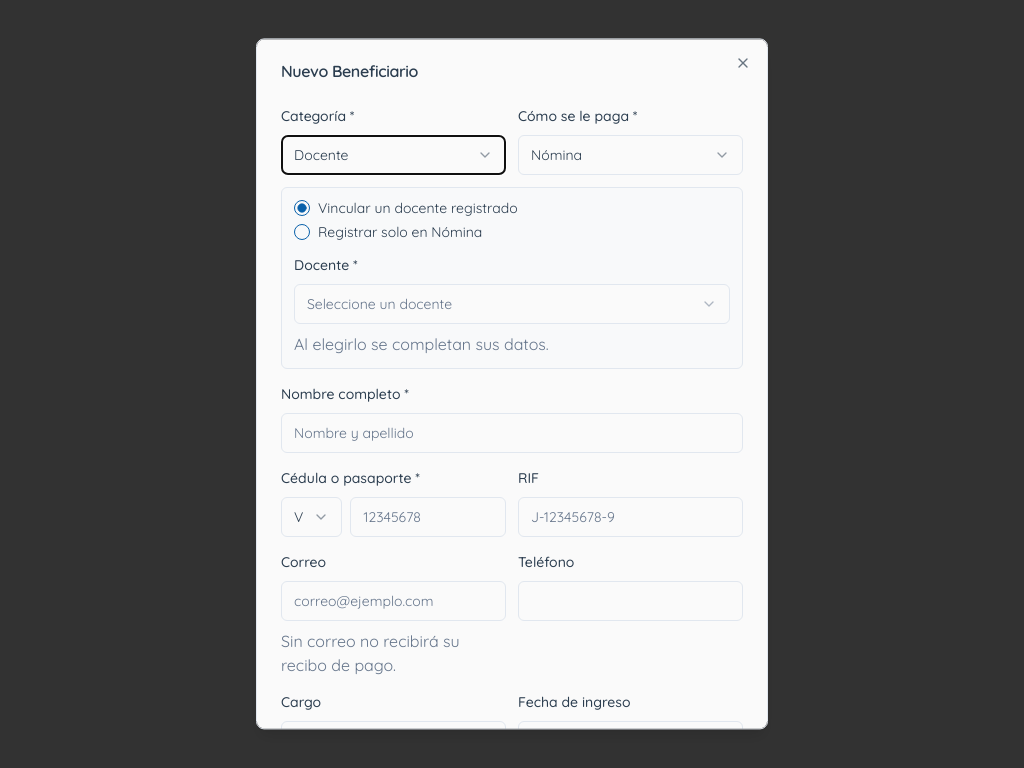
Test: BeneficiaryFormModal › offers both paths when there are active teachers
Expected: the radio button named "Vincular un docente registrado" next to "Vincular un docente registrado" is checked, [294,200,310,216]
Click the radio button named "Registrar solo en Nómina" next to "Registrar solo en Nómina". click: click(302, 232)
box: [294,224,310,240]
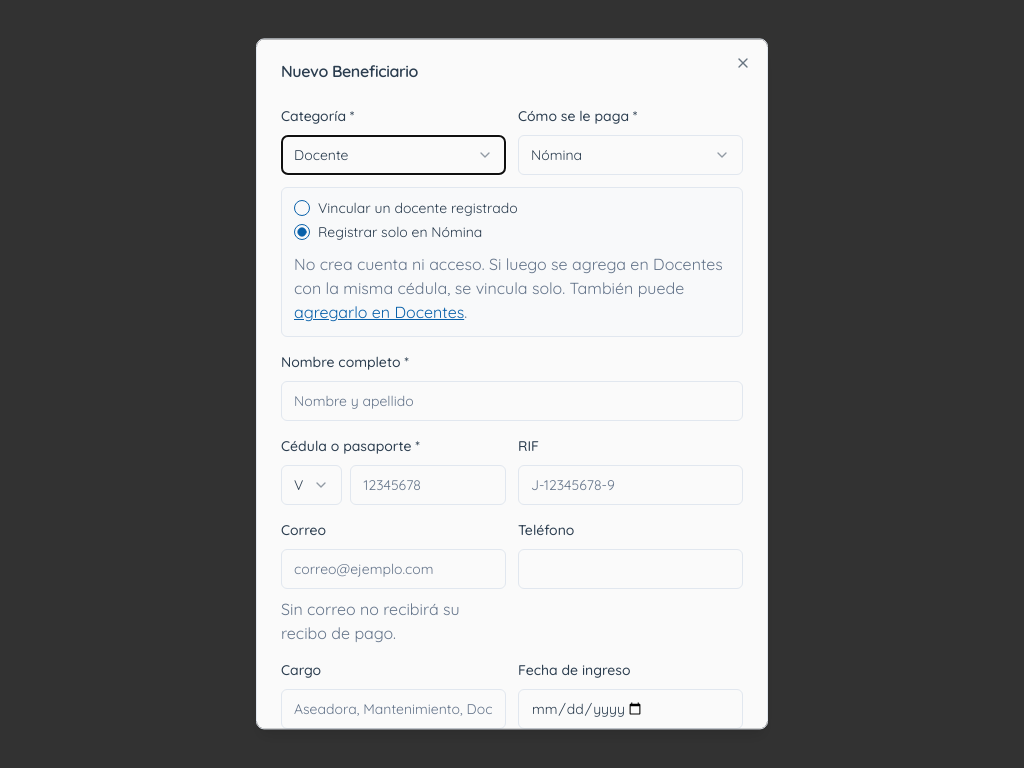
Expected: the text "No crea cuenta ni acceso" is shown, [294,254,723,298]
